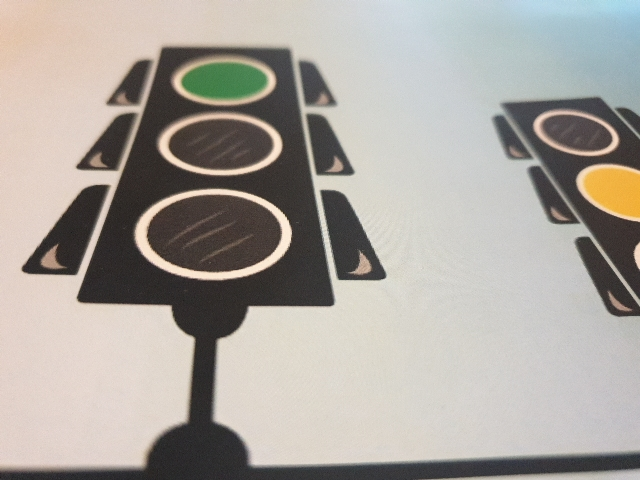green: (166, 48, 283, 287)
